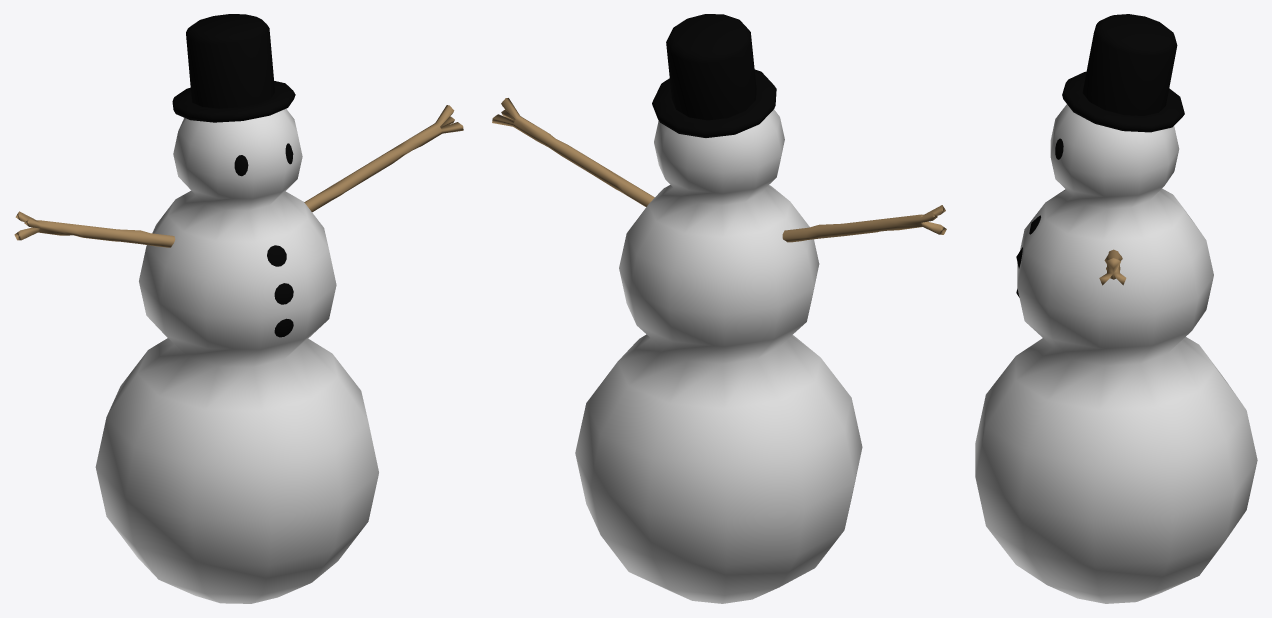
Rendered from Snowman.fbx.
The picture shows the model from 3 angles, left to right: view 1: azimuth 30°, elevation 25°; view 2: azimuth 150°, elevation 25°; view 3: azimuth 270°, elevation 25°; orthographic projection.
Parts seen in each view (by area): view 1: Body, Top_Hat, Left_Arm, Right_Arm; view 2: Body, Top_Hat, Left_Arm, Right_Arm; view 3: Body, Top_Hat, Left_Arm.
Boxes of the visible parts, box(x1,y1,x2,y2) form: Body: box(95, 109, 378, 603); Top_Hat: box(172, 14, 295, 122); Left_Arm: box(304, 105, 463, 212); Right_Arm: box(14, 211, 175, 247); Body: box(575, 109, 862, 603); Top_Hat: box(652, 14, 776, 137); Left_Arm: box(492, 98, 654, 206); Right_Arm: box(782, 205, 946, 242); Body: box(975, 104, 1257, 603); Top_Hat: box(1062, 14, 1184, 132); Left_Arm: box(1099, 249, 1126, 285).
Bounding box in the file's own units: 3.55 × 4.34 × 1.96.
